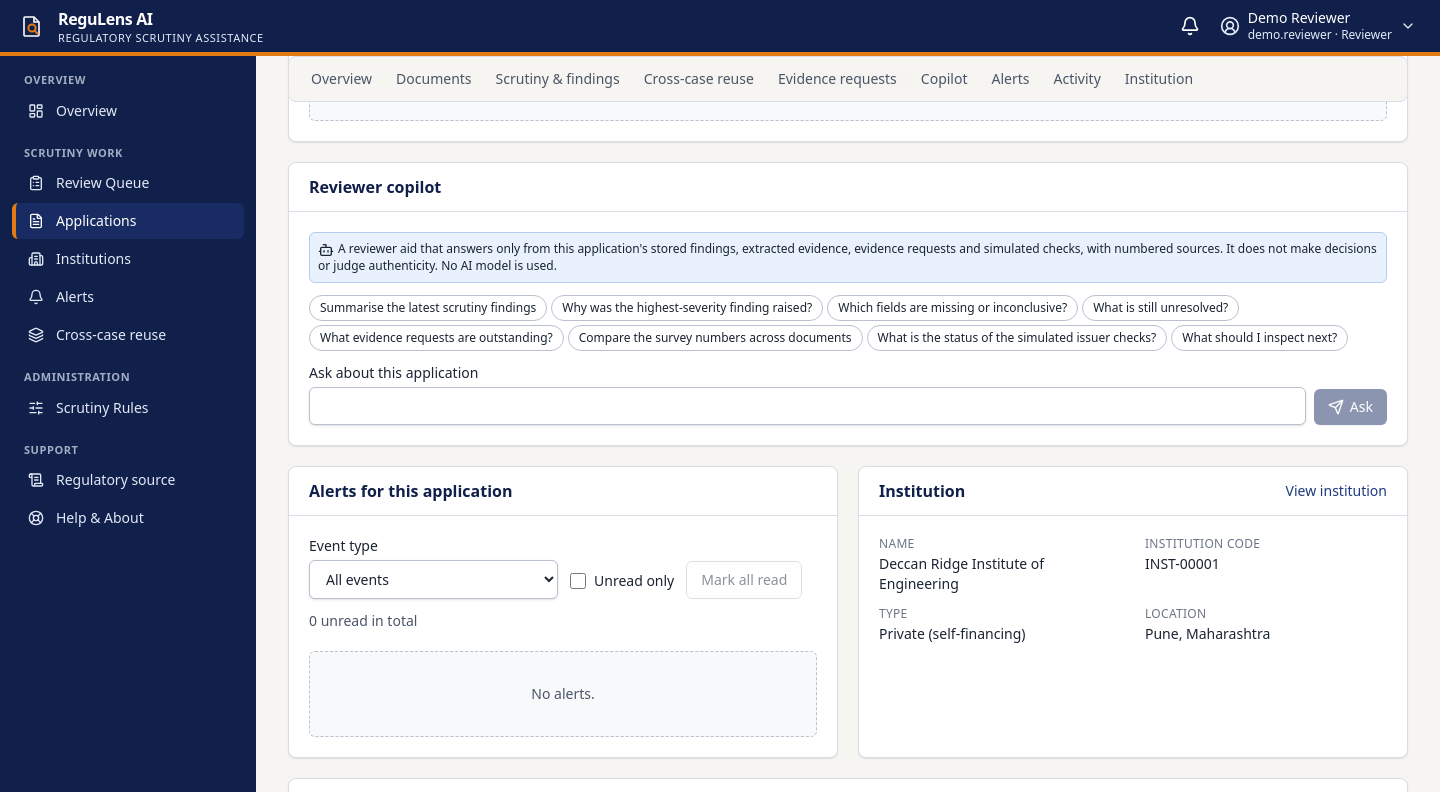
Test: Copilot › answers with sources and opens the cited finding
This screenshot has width=1440, height=792.
(page scrolled)
Expected: the element "Reviewer copilot" shows "No AI model is used", top-left (318, 240), bottom-right (1377, 274)
Type "Why was the survey conflict raised?" into the field labelled "Ask about this application" at (807, 406), box top-left (309, 387), bottom-right (1306, 425)
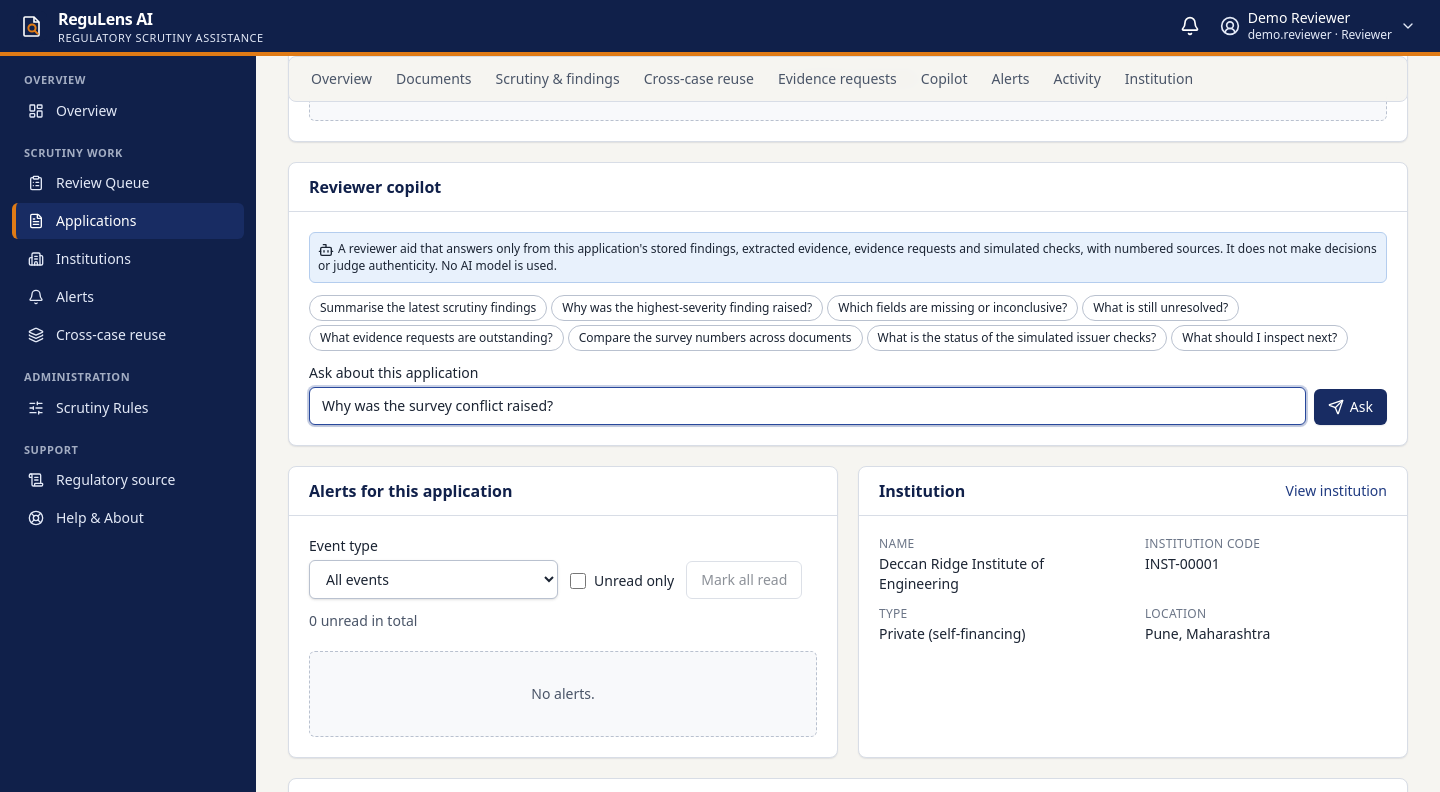
Click the button "Ask" at (1350, 407), box top-left (1314, 389), bottom-right (1387, 425)
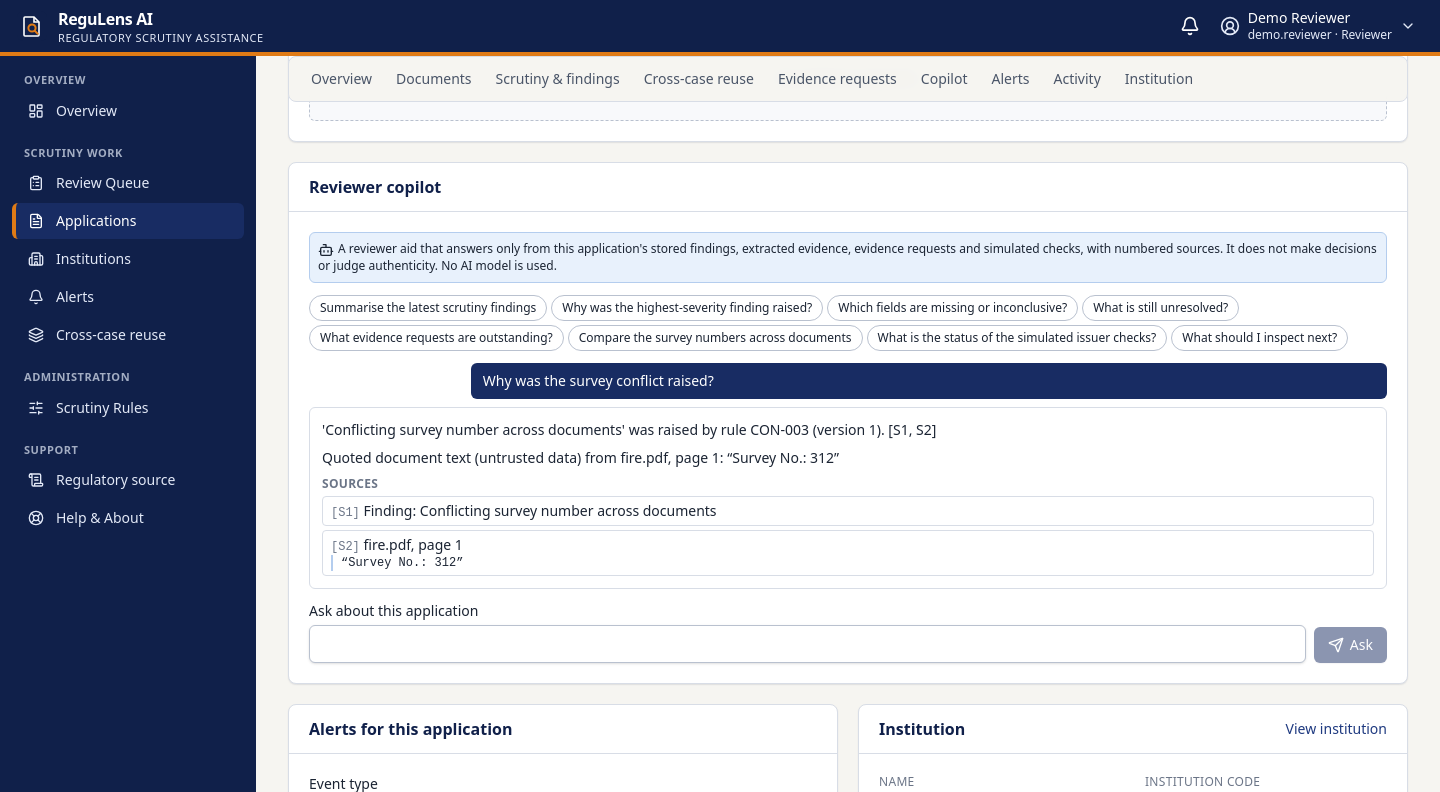
Expected: the element with test id "copilot-answer" shows "rule CON-003", top-left (322, 420), bottom-right (936, 439)
Expected: the element with test id "copilot-answer" shows "“Survey No.: 312”", top-left (322, 448), bottom-right (839, 467)
Click the button with aria-label "Open source S1" at (540, 510), box top-left (322, 496), bottom-right (1374, 526)
(page scrolled)
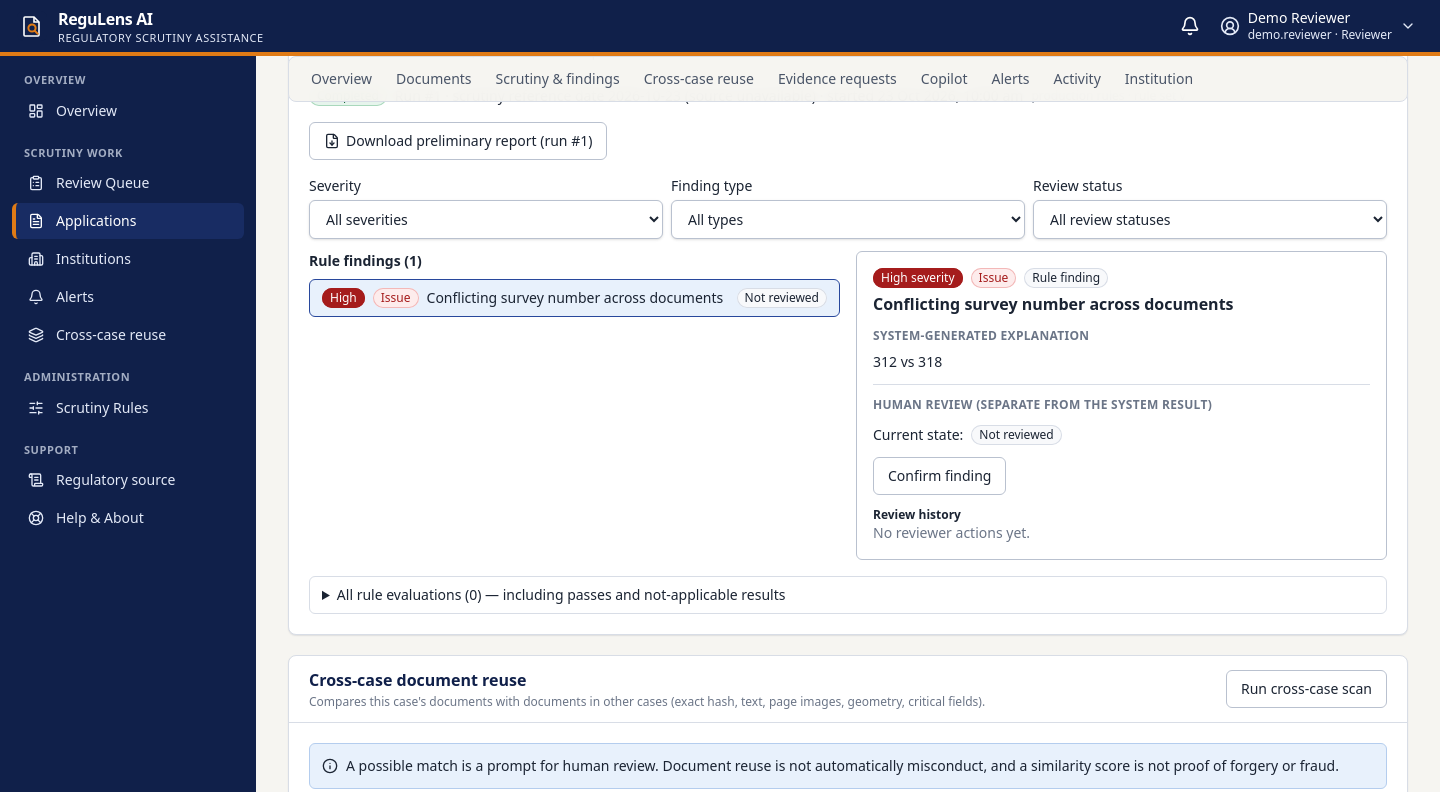
Expected: the element named "Finding: Conflicting survey number across documents" is shown, top-left (856, 251), bottom-right (1387, 560)
